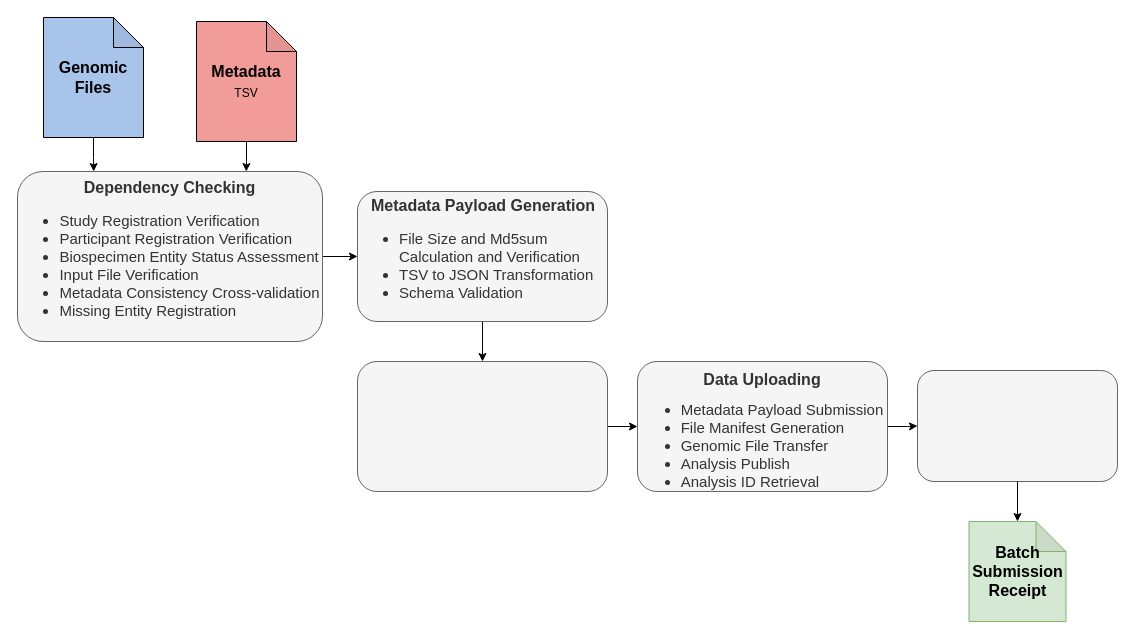
This 1135x639 diagram has some shape labels left out. The box of each missing label's shape, as (x1, y1, x2, y2) in pixels:
Data Validation Metadata Integrity Verification Genomic Data Quality Assessment: (356, 360, 608, 492)
Receipt Generation Submission Status Reporting Batch Receipt Creation: (916, 370, 1118, 482)
